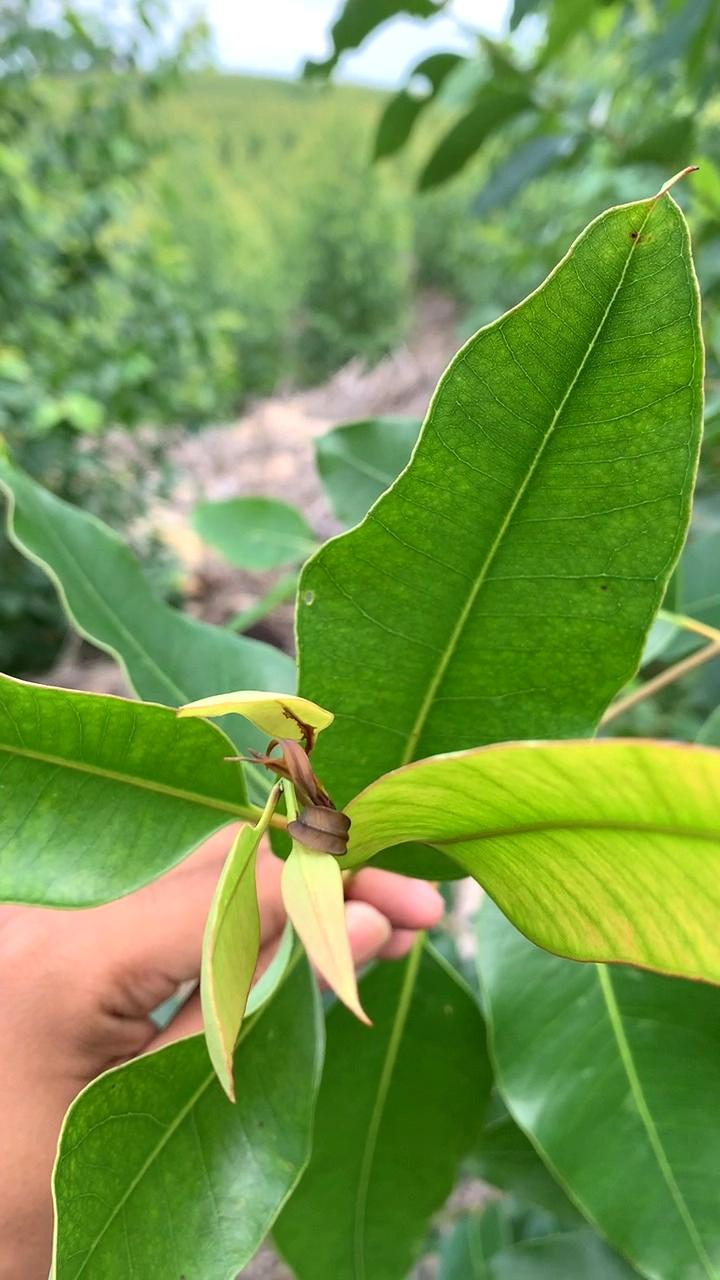Helopeltis-Withered Sprout: (233, 728, 369, 851)
